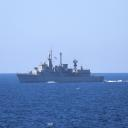Fragata: (16, 43, 106, 85)
